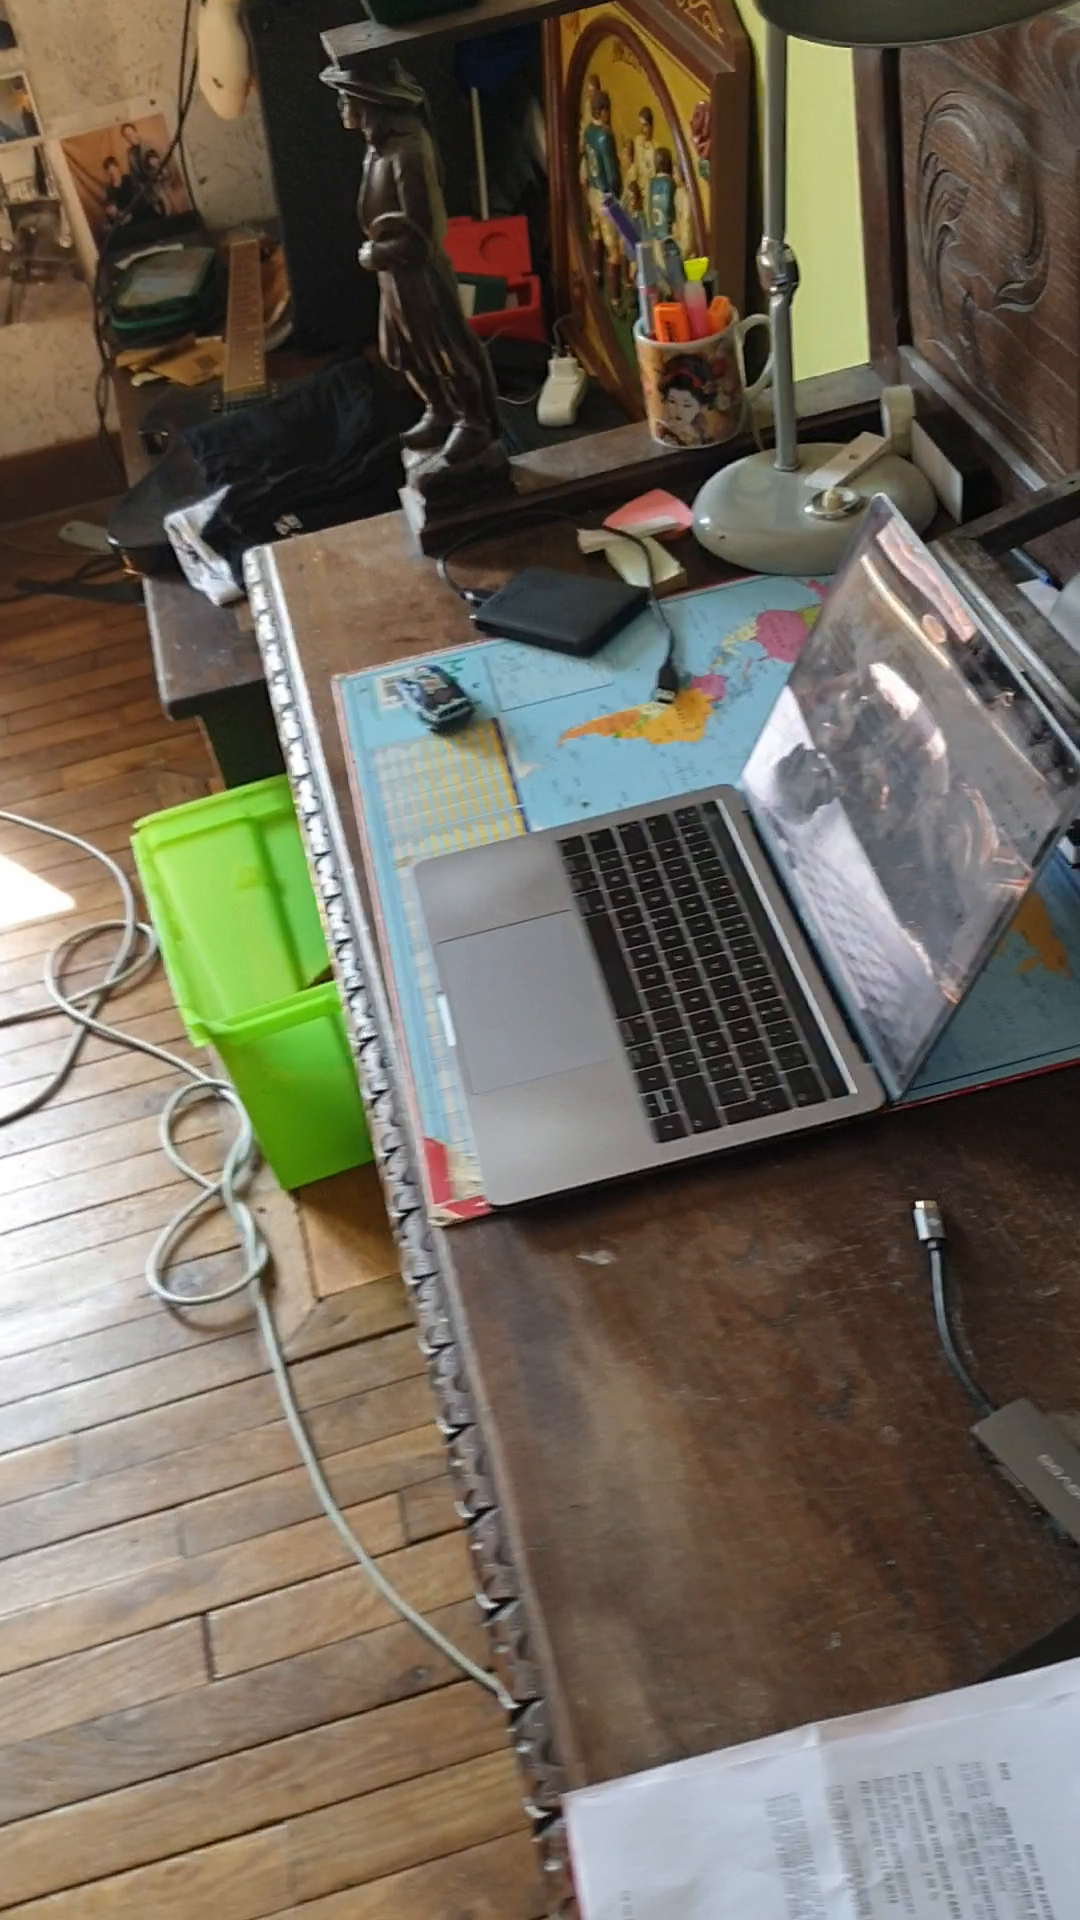cars: (396, 665, 475, 732)
